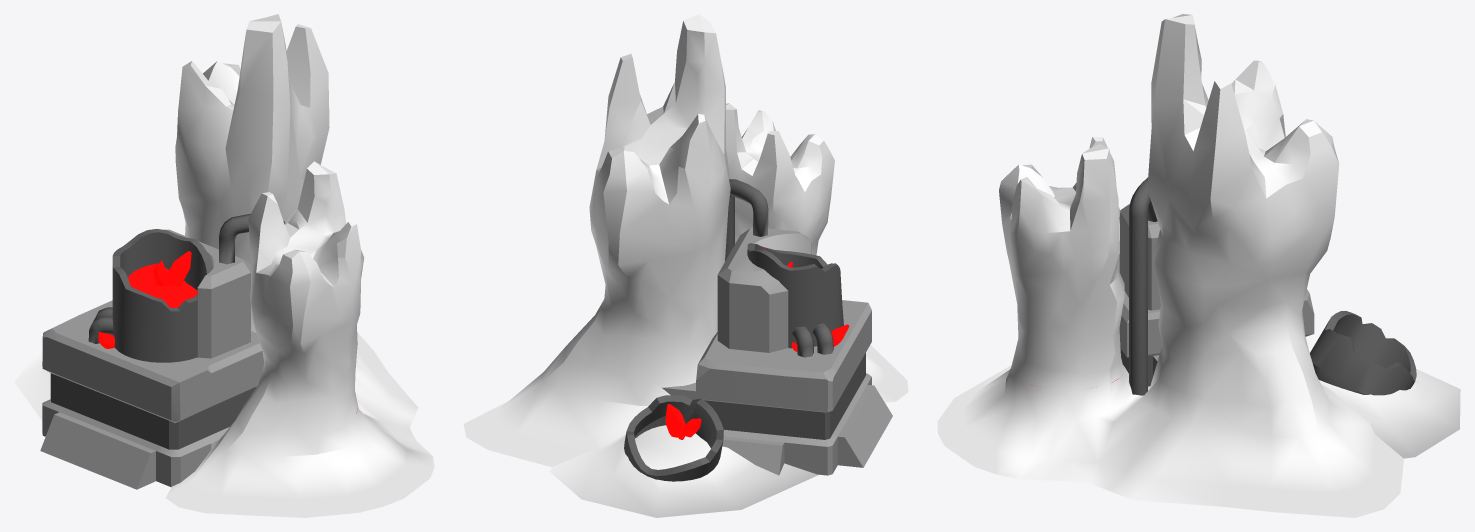
File: SM_OldSilo.fbx
3 views of the same model, side by side, from view 1: azimuth 30°, elevation 25°; view 2: azimuth 150°, elevation 25°; view 3: azimuth 270°, elevation 25° (orthographic). The views are drawn at different scales.
Visible parts, largest first — view 1: OldSilo_LOD0.002; view 2: OldSilo_LOD0.002; view 3: OldSilo_LOD0.002.
Boxes of the visible parts, x1,y1,x2,y2 form: OldSilo_LOD0.002: [14, 14, 434, 517]; OldSilo_LOD0.002: [463, 14, 908, 517]; OldSilo_LOD0.002: [937, 14, 1460, 517].
Size of what is drawn, in the model's own units: 70.15 by 75.83 by 84.03.
Materials: 3 (1 with a texture image).
